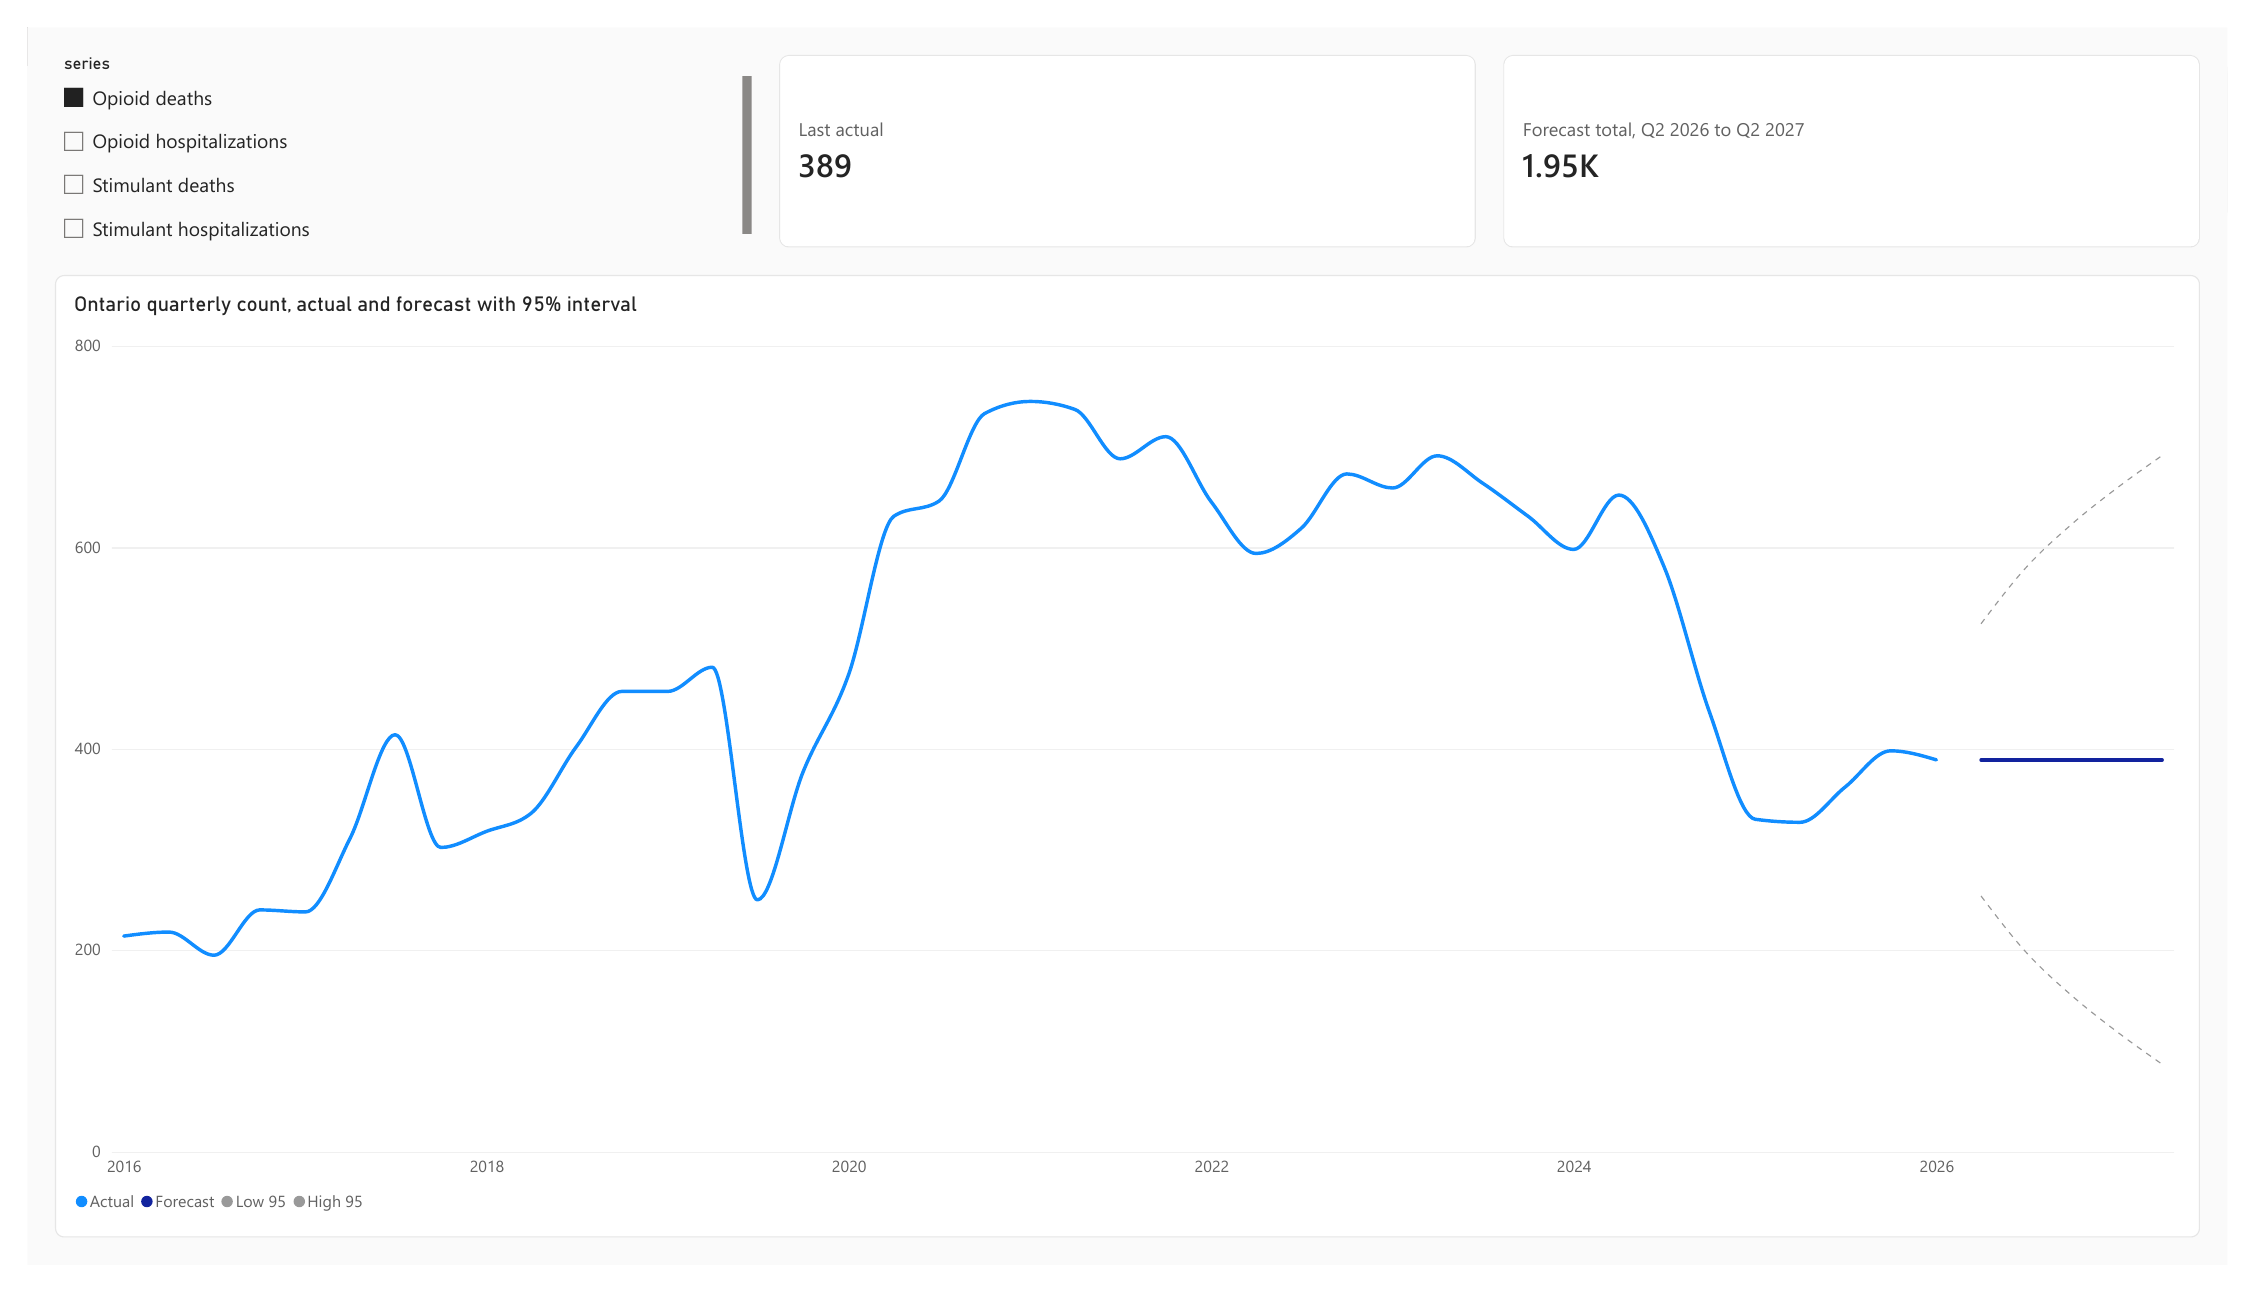

The page's visual inventory and layout, read from the dashboard file:
{"tool":"powerbi","page":{"name":"Ontario forecast","canvas":[1920,1080],"ordinal":0},"visuals":[{"type":"slicer","fields":{"Values":["powerbi_quarterly.series"]},"box":[24,24,608,168],"z":0},{"type":"lineChart","title":"Ontario quarterly count, actual and forecast with 95% interval","fields":{"Category":["powerbi_quarterly.quarter_start"],"Y":["powerbi_quarterly.Actual","powerbi_quarterly.Forecast","powerbi_quarterly.Low 95","powerbi_quarterly.High 95"]},"box":[24,216,1872,840],"z":1000},{"type":"cardVisual","fields":{"Data":["powerbi_quarterly.Last actual"]},"box":[656,24,608,168],"z":2000},{"type":"cardVisual","fields":{"Data":["powerbi_quarterly.Forecast"]},"box":[1288,24,608,168],"z":3000}]}

Visuals, with their boxes in screenshot pixels (x1, y1, x2, y2), scaled from the page's 1920x1080 canvas onto the 2255x1293 screenshot:
slicer - powerbi_quarterly.series: bbox(28, 29, 742, 230)
"Ontario quarterly count, actual and forecast with 95% interval" lineChart: bbox(28, 259, 2227, 1264)
cardVisual - powerbi_quarterly.Last actual: bbox(770, 29, 1485, 230)
cardVisual - powerbi_quarterly.Forecast: bbox(1513, 29, 2227, 230)
